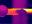Hotspot: (24, 8, 31, 13)
